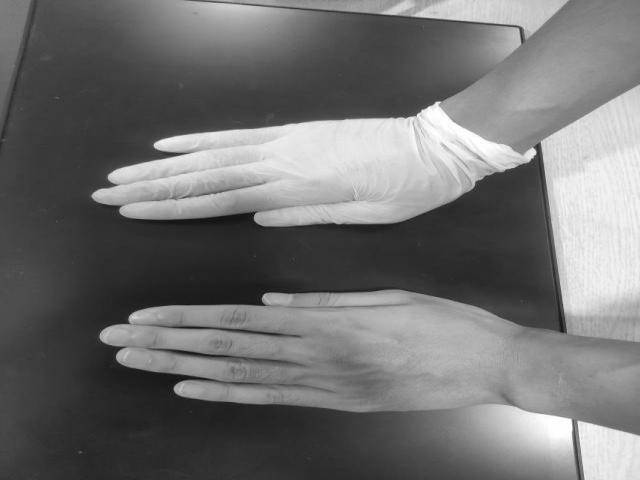gloved: (88, 114, 460, 228)
not-gloved: (100, 286, 487, 414)
